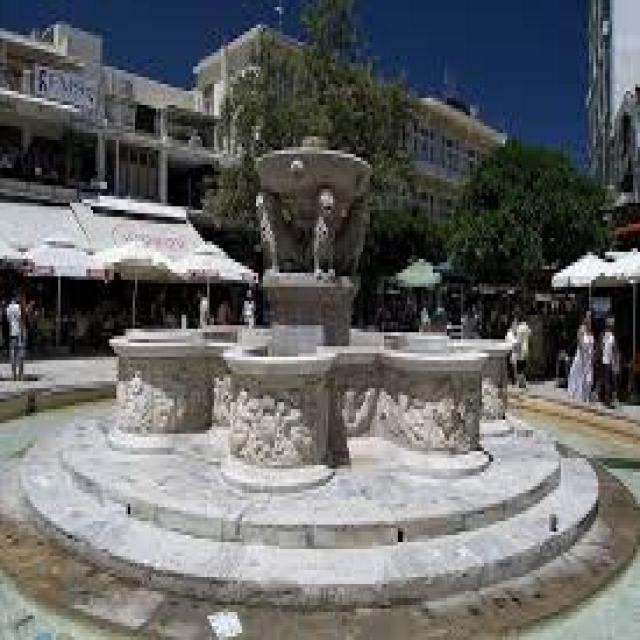Liontaria: (115, 147, 517, 493)
